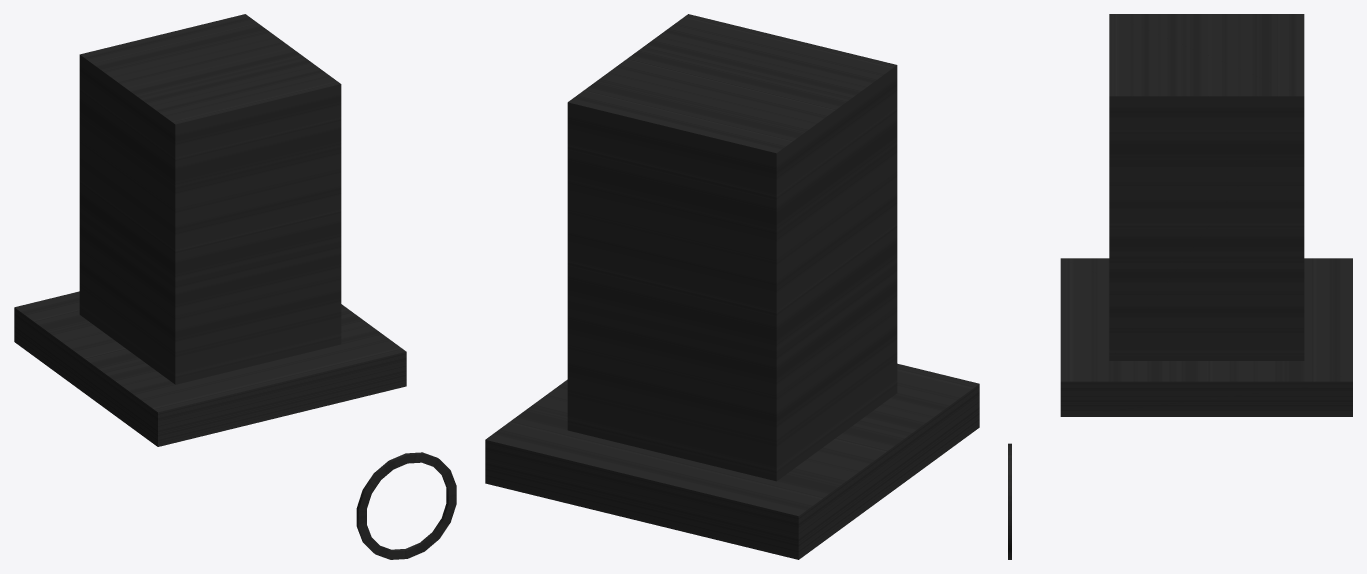
Rendered from TopHat.FBX.
The picture shows the model from 3 angles, left to right: view 1: azimuth 30°, elevation 25°; view 2: azimuth 150°, elevation 25°; view 3: azimuth 270°, elevation 25°; orthographic projection. The views are drawn at different scales.
Parts seen in each view (by area): view 1: Box003, Box002, Tube001; view 2: Box003, Box002; view 3: Box003, Box002, Tube001.
Boxes of the visible parts, x1,y1,x2,y2 form: Box003: (79, 14, 341, 384); Box002: (14, 291, 406, 446); Tube001: (356, 452, 456, 559); Box003: (567, 14, 897, 481); Box002: (485, 363, 979, 559); Box003: (1109, 14, 1304, 360); Box002: (1060, 258, 1352, 416); Tube001: (1008, 443, 1011, 559).
Bounding box in the file's own units: 16.45 × 25.5 × 17.71.
Materials: 1 (1 with a texture image).
